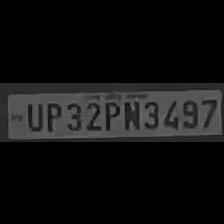2: (83, 98, 101, 130)
3: (62, 98, 82, 130), (142, 97, 160, 129)
4: (161, 96, 179, 128)
7: (198, 94, 218, 128)
9: (178, 96, 198, 128)
N: (121, 96, 139, 130)
P: (101, 96, 119, 130), (43, 99, 61, 131)
U: (22, 97, 42, 130)
